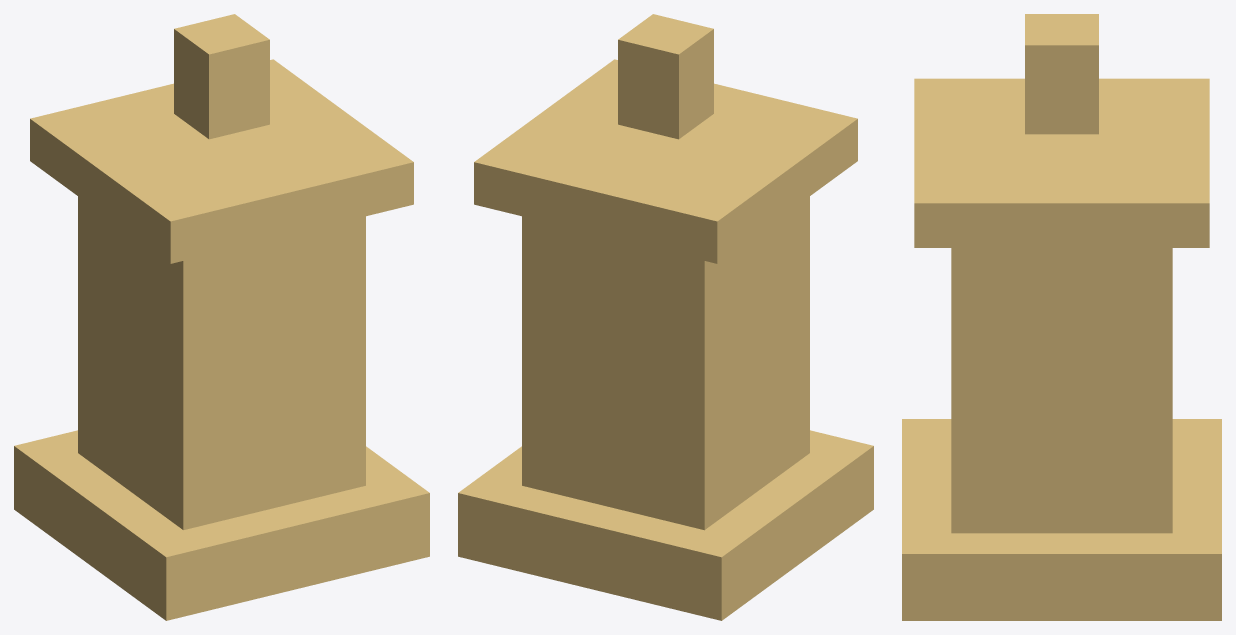
File: lantern.glb
3 renders of one model, left to right at view 1: azimuth 30°, elevation 25°; view 2: azimuth 150°, elevation 25°; view 3: azimuth 270°, elevation 25°, orthographic. The views are drawn at different scales.
Parts seen in each view (by area): view 1: Lantern; view 2: Lantern; view 3: Lantern.
Part boxes in pixels (x1,y1,x2,y2): Lantern: (14, 14, 429, 620); Lantern: (458, 14, 873, 620); Lantern: (902, 14, 1221, 620).
Size of the model in its own units: 0.13 by 0.235 by 0.13.
